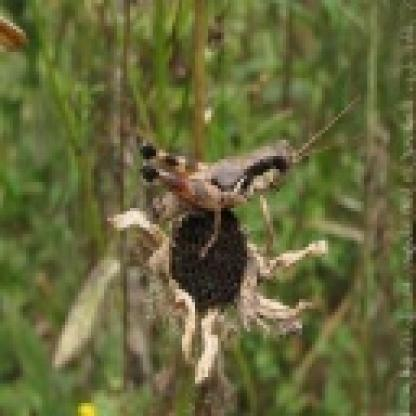grasshopper: (122, 115, 324, 228)
